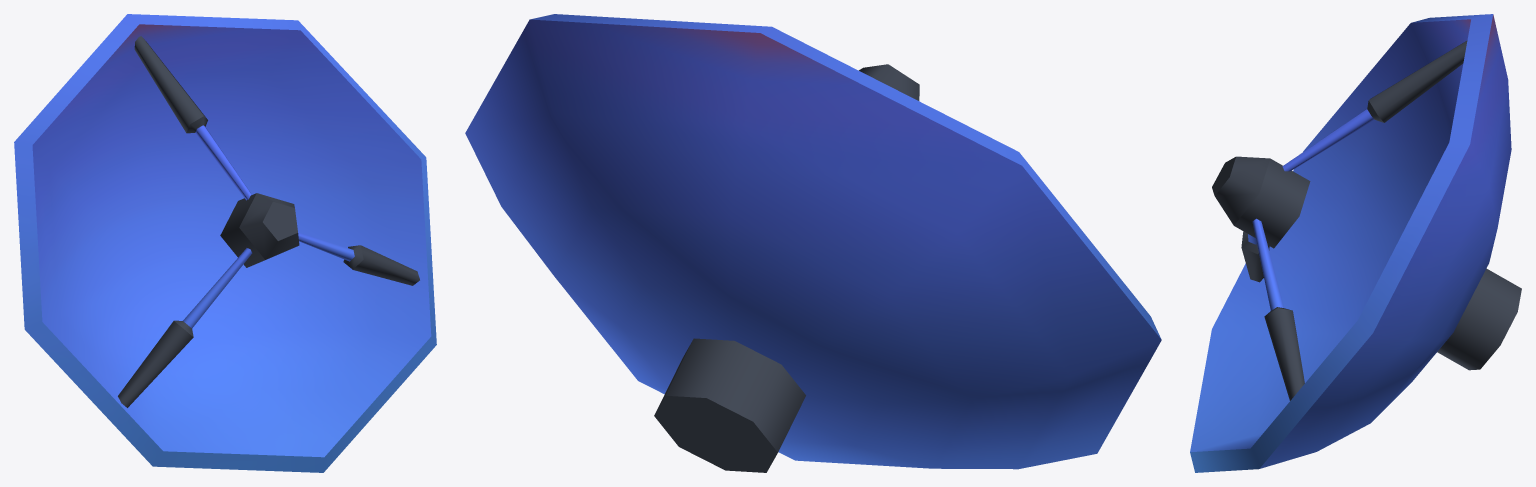
Rendered from Antene_2_B_1.fbx.
3 renders of one model, left to right at view 1: azimuth 30°, elevation 25°; view 2: azimuth 150°, elevation 25°; view 3: azimuth 270°, elevation 25°, orthographic. The views are drawn at different scales.
Visible parts, largest first — view 1: Antene_2_B_1; view 2: Antene_2_B_1; view 3: Antene_2_B_1.
Boxes of the visible parts, x1,y1,x2,y2 form: Antene_2_B_1: [14, 14, 436, 472]; Antene_2_B_1: [465, 14, 1161, 472]; Antene_2_B_1: [1190, 14, 1521, 472].
Bounding box in the file's own units: 142 × 120 × 84.78.
